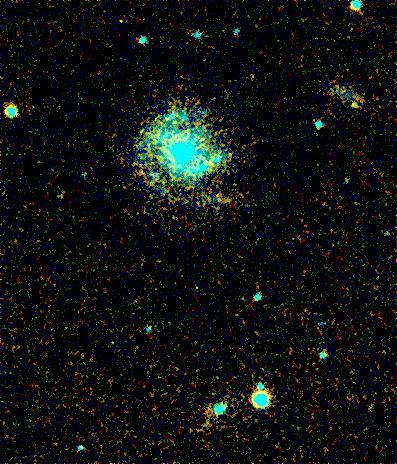star: (341, 91, 371, 121)
